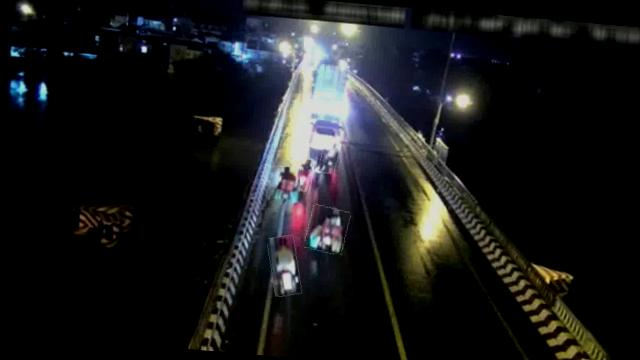Bike: (266, 234, 304, 298), (305, 206, 350, 254), (268, 166, 301, 202), (293, 157, 316, 192), (319, 140, 341, 174)
